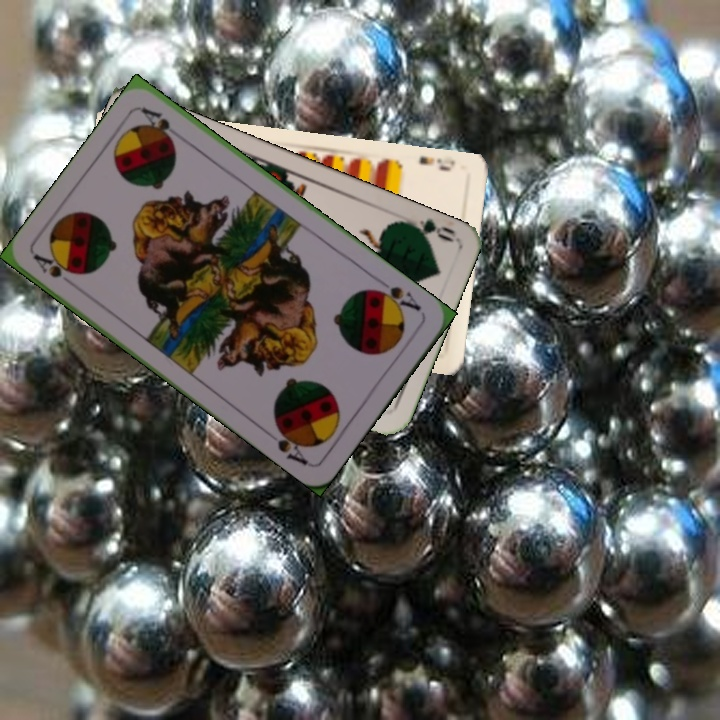E9: (415, 152, 458, 174)
GO: (399, 215, 458, 245)
SA: (368, 275, 424, 315), (30, 250, 82, 292)
